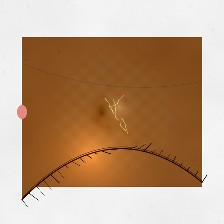corneal_ulcer: (87, 93, 144, 138)
